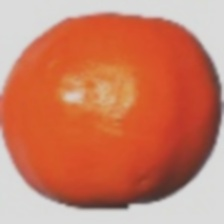tangerine: (17, 20, 182, 208)
